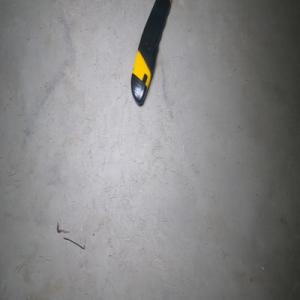Cutter: (130, 0, 173, 106)
